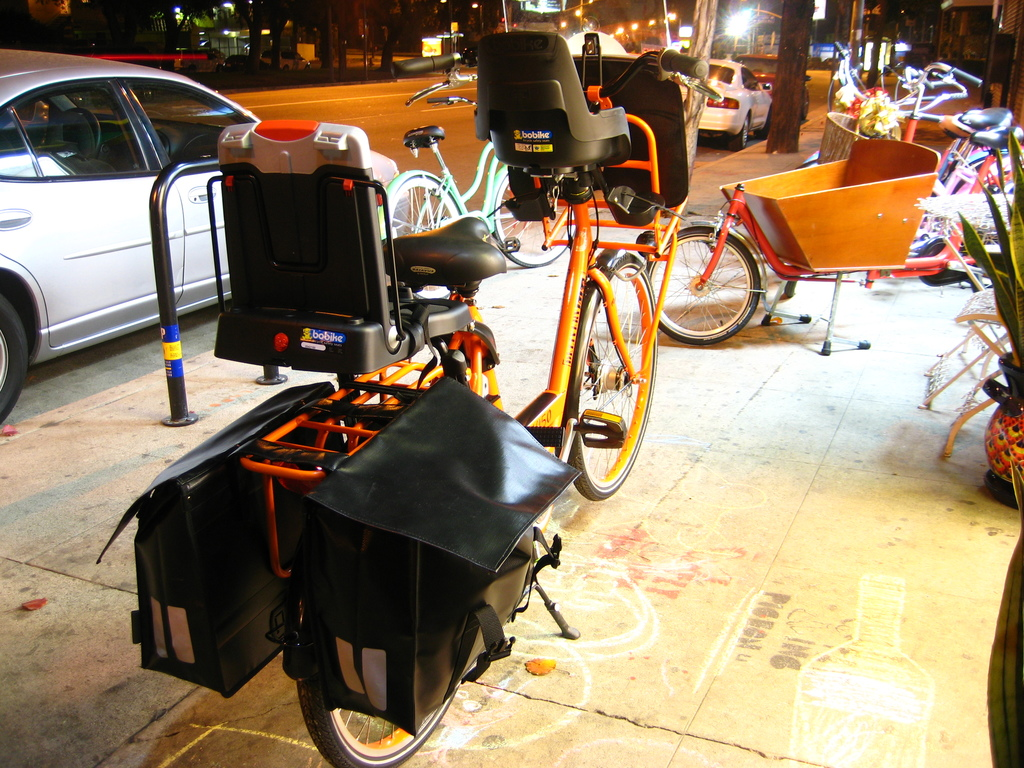Car: (0, 44, 402, 421), (693, 58, 771, 149), (732, 53, 811, 122), (254, 46, 314, 71), (217, 55, 260, 74)
